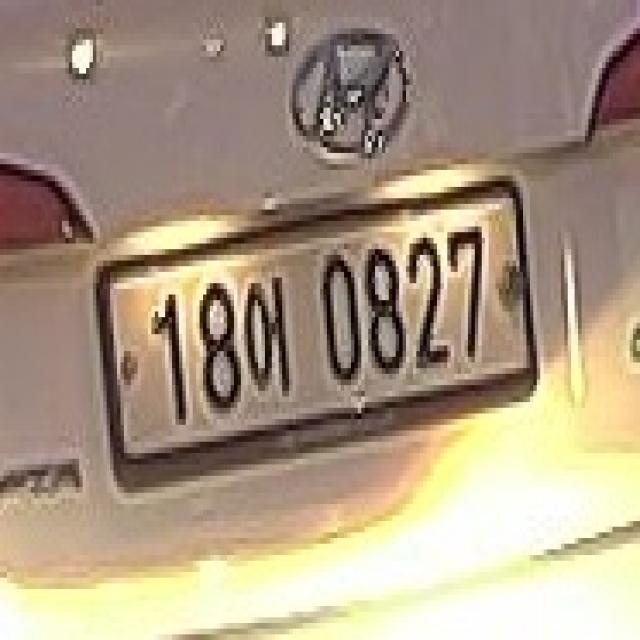0: (317, 249, 361, 385)
1: (151, 283, 193, 431)
2: (406, 232, 454, 374)
7: (447, 226, 489, 380)
8: (196, 277, 241, 425), (364, 238, 402, 385)
eo: (245, 272, 292, 413)
license_plate: (90, 170, 544, 510)
